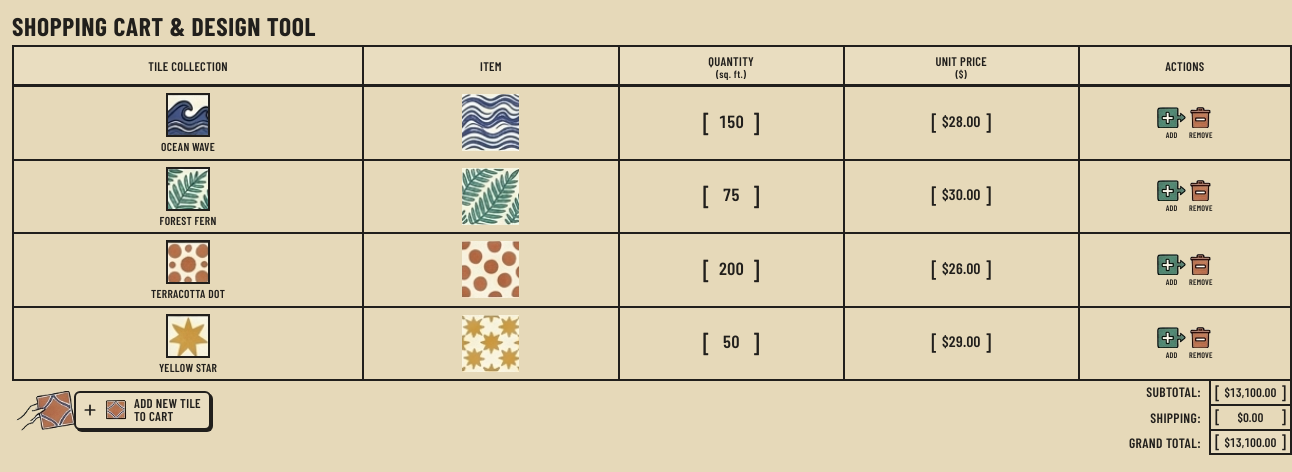
it: <ShoppingCart /> › recalculates totals when a quantity is edited
Replace the text in the field named "Ocean Wave quantity in square feet" with "10" at (731, 122), box [715, 108, 748, 136]
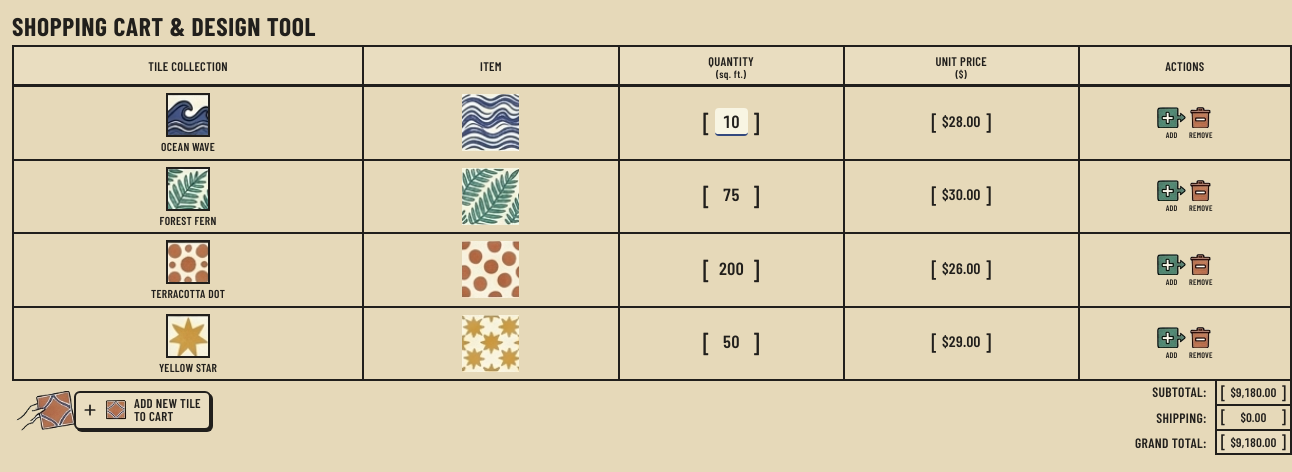
Expected: the element with test id "cart-subtotal" shows "$9,180.00", [1230, 385, 1276, 399]
